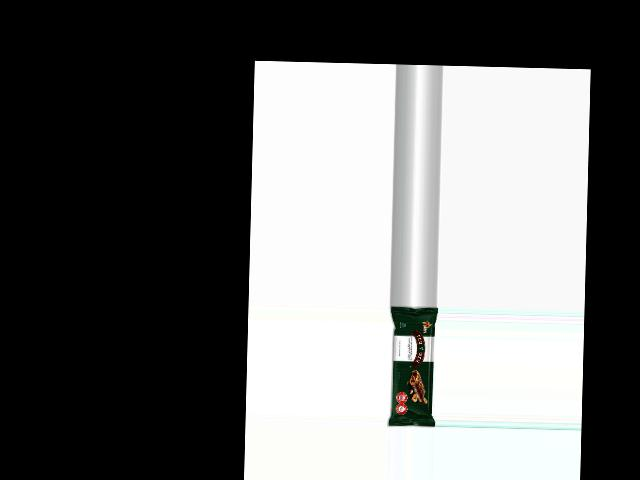chocolate: (385, 304, 438, 427)
